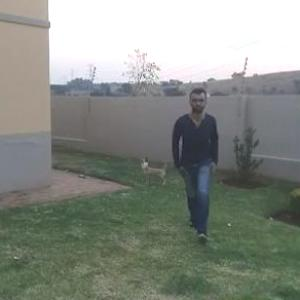follow: (169, 81, 219, 233)
